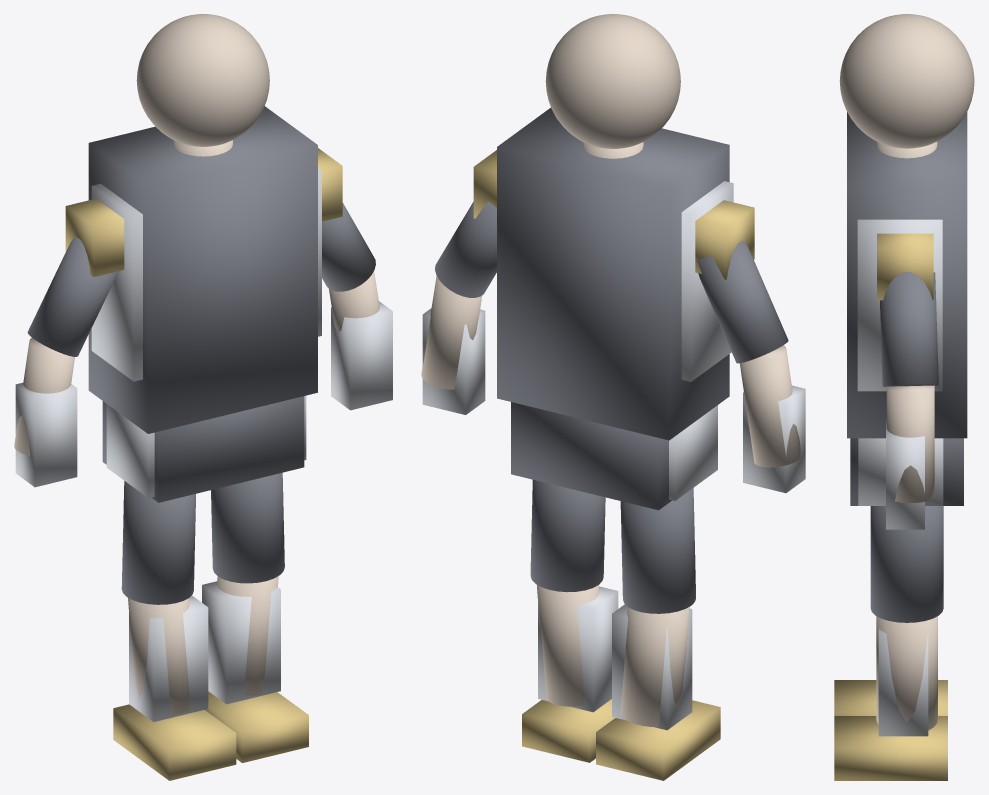
The model's file is profile_mannequin.glb.
3 renders of one model, left to right at view 1: azimuth 30°, elevation 25°; view 2: azimuth 150°, elevation 25°; view 3: azimuth 270°, elevation 25°, orthographic.
Visible parts, largest first — view 1: Cube, Sphere, Cube.003, Cylinder.005, Cylinder.007, Cube.001, Cube.011, Cube.010, Cube.006, Cylinder.001, Cube.005, Cube.009 (+9 smaller); view 2: Cube, Sphere, Cube.003, Cylinder.005, Cylinder.007, Cube.011, Cylinder.001, Cylinder.006, Cube.001, Cylinder.002, Cylinder.008, Cube.010 (+9 smaller); view 3: Cube, Sphere, Cylinder.007, Cube.012, Cube.001, Cylinder.003, Cylinder.008, Cylinder.004, Cube.006, Cube.010, Cube.008, Cube.004 (+3 smaller).
Boxes of the visible parts, box(x1,y1,x2,y2) form: Cube: box(88, 106, 317, 433); Sphere: box(136, 14, 269, 146); Cube.003: box(102, 396, 304, 502); Cylinder.005: box(121, 481, 195, 604); Cylinder.007: box(211, 472, 284, 583); Cube.001: box(91, 168, 321, 381); Cube.011: box(113, 704, 236, 780); Cube.010: box(202, 581, 280, 704); Cube.006: box(331, 301, 392, 410); Cylinder.001: box(27, 237, 118, 356); Cube.005: box(15, 382, 77, 487); Cube.009: box(129, 595, 208, 721); Cube: box(497, 107, 729, 440); Sphere: box(545, 14, 680, 148); Cube.003: box(511, 402, 671, 510); Cylinder.005: box(620, 488, 695, 613); Cylinder.007: box(530, 479, 605, 592); Cube.011: box(596, 700, 720, 780); Cylinder.001: box(697, 241, 788, 363); Cylinder.006: box(620, 606, 689, 726); Cube.001: box(681, 181, 733, 381); Cylinder.002: box(739, 345, 801, 467); Cylinder.008: box(536, 584, 599, 706); Cube.010: box(538, 586, 618, 712); Cube: box(847, 112, 967, 438); Sphere: box(839, 14, 974, 148); Cylinder.007: box(870, 506, 943, 622); Cube.012: box(834, 716, 947, 780); Cube.001: box(857, 219, 942, 391); Cylinder.003: box(880, 272, 938, 387); Cylinder.008: box(876, 616, 937, 730); Cylinder.004: box(886, 385, 934, 502); Cube.006: box(886, 418, 924, 529); Cube.010: box(878, 629, 928, 736); Cube.008: box(877, 233, 933, 300); Cube.004: box(858, 438, 943, 505).
Size of the model in its own units: 1.21 by 2.26 by 0.395.
